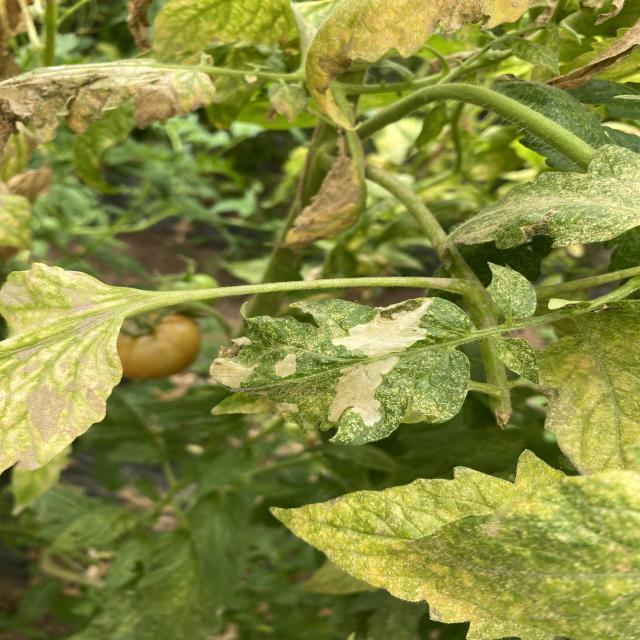Tuta absoluta: (328, 299, 442, 368), (325, 342, 399, 435), (207, 352, 257, 393), (272, 351, 304, 381)
